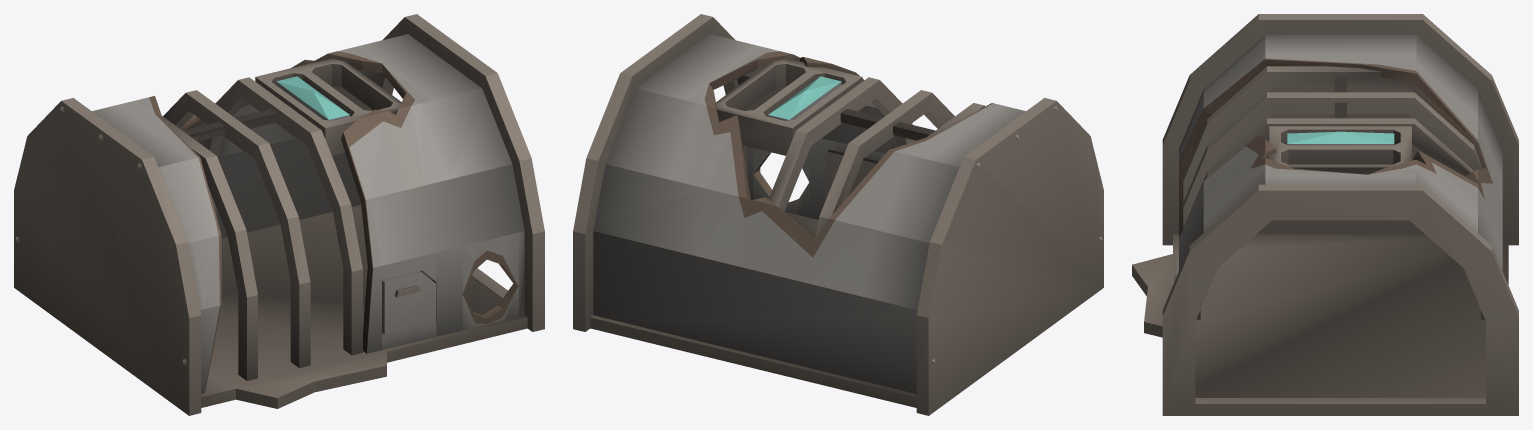
Rendered from hull.glb.
3 renders of one model, left to right at view 1: azimuth 30°, elevation 25°; view 2: azimuth 150°, elevation 25°; view 3: azimuth 270°, elevation 25°, orthographic.
Parts seen in each view (by area): view 1: hull; view 2: hull; view 3: hull.
Part boxes in pixels (<box>): hull: <box>14,14,544,415</box>; hull: <box>573,14,1103,415</box>; hull: <box>1132,14,1518,415</box>.
Bounding box in the file's own units: 4.1 × 2.42 × 3.77.
